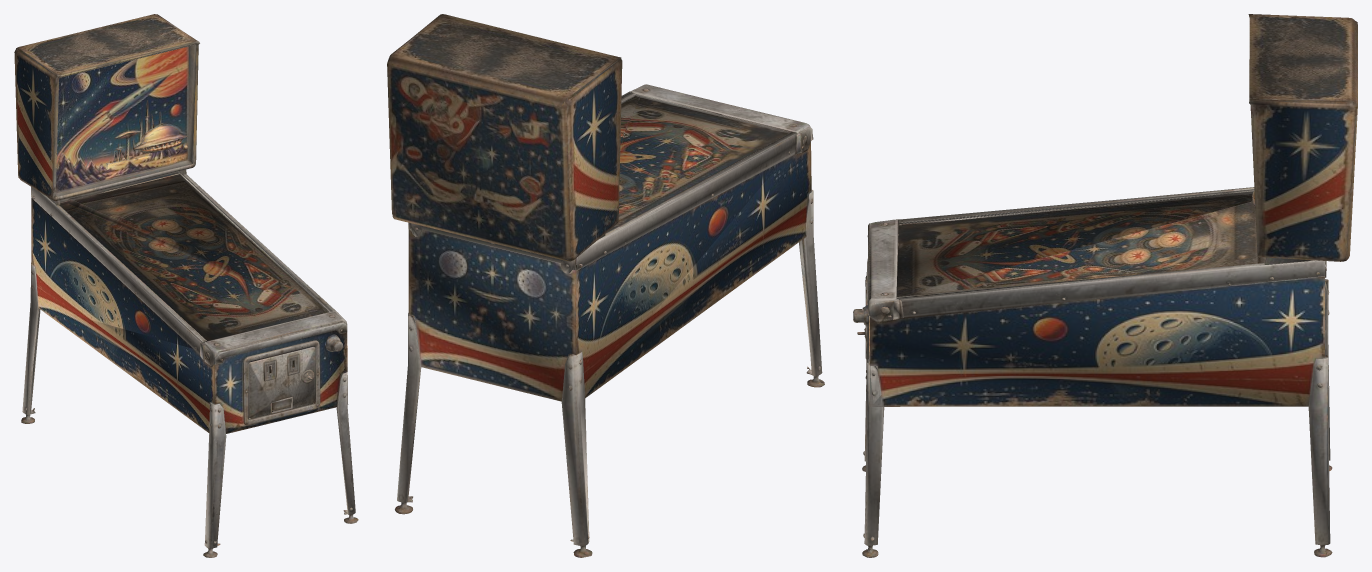
File: skyways-d-ar-pinball.glb
3 renders of one model, left to right at view 1: azimuth 30°, elevation 25°; view 2: azimuth 150°, elevation 25°; view 3: azimuth 270°, elevation 25°, orthographic. The views are drawn at different scales.
Visible parts, largest first — view 1: skyways-d-ar-pinball; view 2: skyways-d-ar-pinball; view 3: skyways-d-ar-pinball.
Boxes of the visible parts, <box> form: skyways-d-ar-pinball: <box>14,14,358,557</box>; skyways-d-ar-pinball: <box>387,14,824,557</box>; skyways-d-ar-pinball: <box>853,14,1357,557</box>.
Size of the model in its own units: 0.8305 by 1.9 by 1.91.
1 material, 1 textured.
